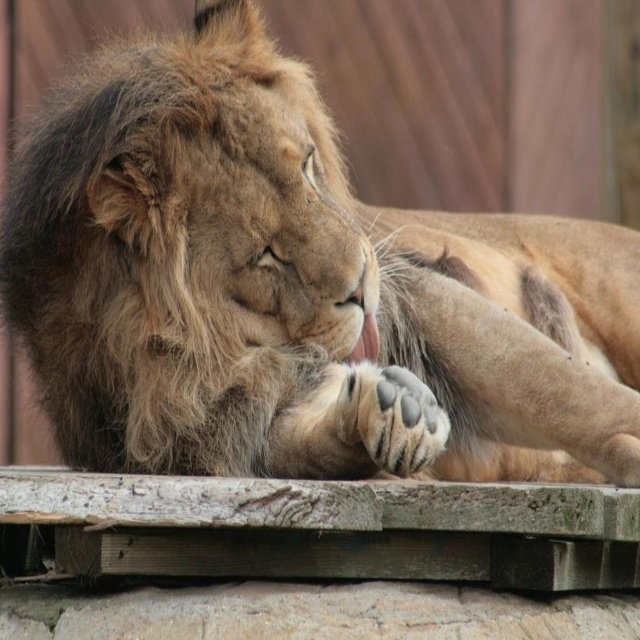Lion: (0, 0, 640, 489)
